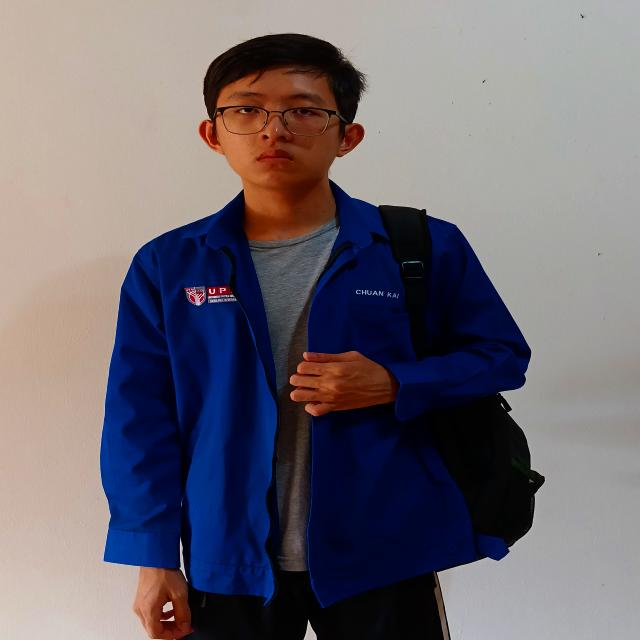person_with_labcoat: (101, 34, 544, 640)
